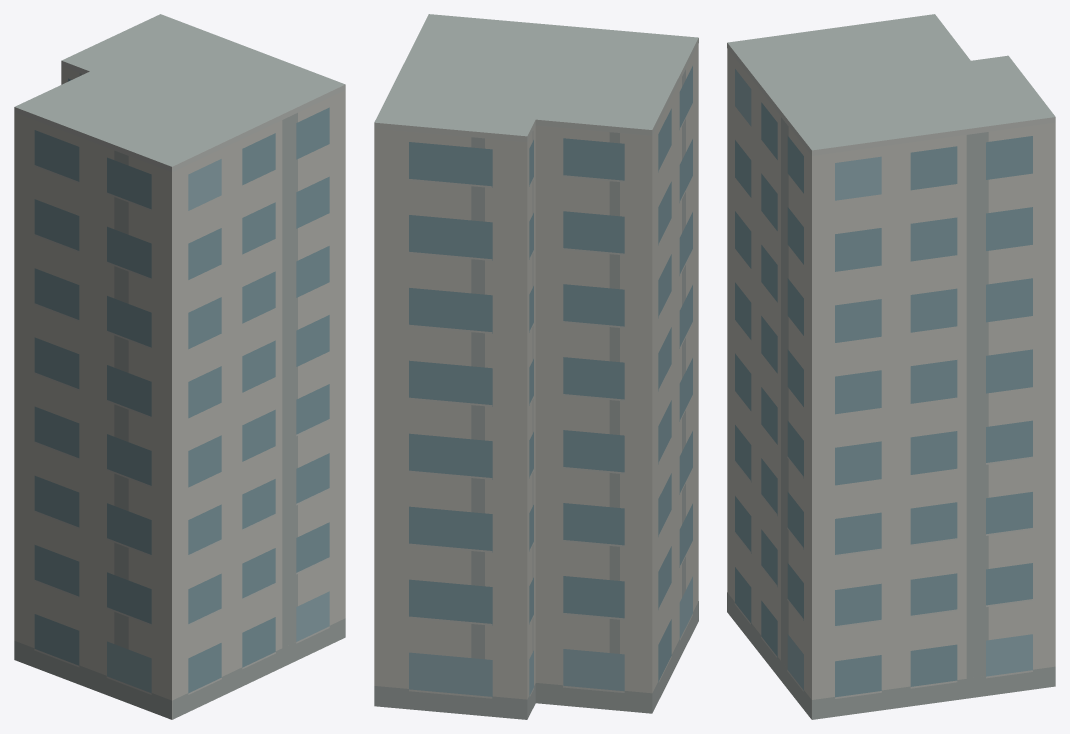
Rendered from survey-upis-32955430.glb.
3 views of the same model, side by side, from view 1: azimuth 30°, elevation 25°; view 2: azimuth 150°, elevation 25°; view 3: azimuth 270°, elevation 25° (orthographic). The views are drawn at different scales.
Visible parts, largest first — view 1: survey-upis-32955430.tmp; view 2: survey-upis-32955430.tmp; view 3: survey-upis-32955430.tmp.
Boxes of the visible parts, left/top/right/bottom form: survey-upis-32955430.tmp: left=14, top=14, right=345, bottom=719; survey-upis-32955430.tmp: left=374, top=14, right=698, bottom=719; survey-upis-32955430.tmp: left=727, top=14, right=1055, bottom=719.
Bounding box in the file's own units: 12.49 × 24.3 × 12.72.
